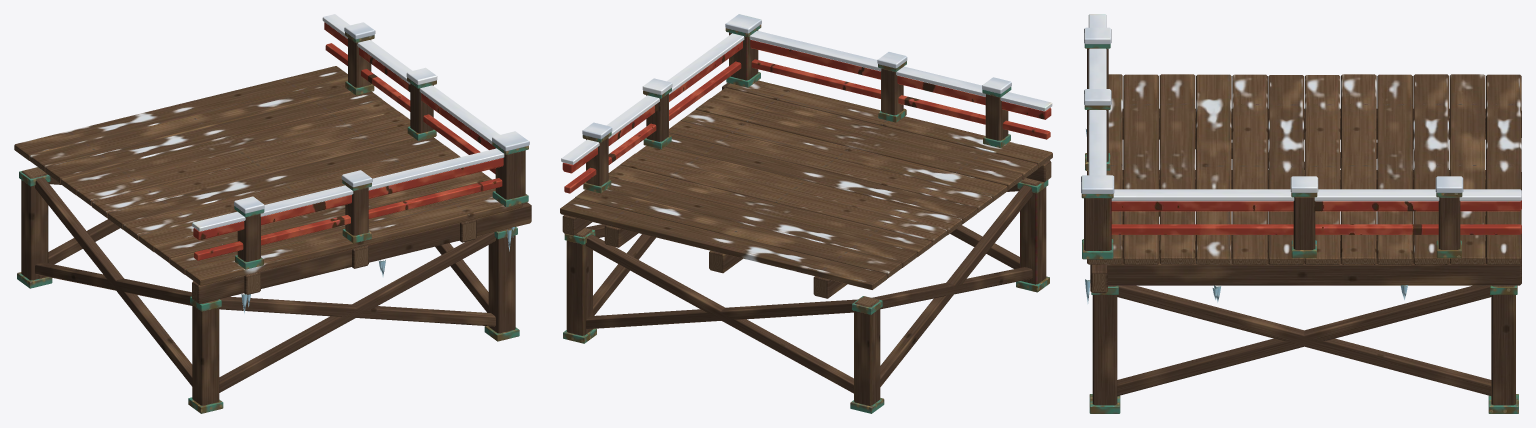
File: SM_Tripo_FrostPlankRoadCorner.glb
The picture shows the model from 3 angles, left to right: view 1: azimuth 30°, elevation 25°; view 2: azimuth 150°, elevation 25°; view 3: azimuth 270°, elevation 25°; orthographic projection. The views are drawn at different scales.
Visible parts, largest first — view 1: SM_Tripo_FrostPlankRoadCorner_LOD0; view 2: SM_Tripo_FrostPlankRoadCorner_LOD0; view 3: SM_Tripo_FrostPlankRoadCorner_LOD0.
Part boxes in pixels (left/top/right/bottom): SM_Tripo_FrostPlankRoadCorner_LOD0: left=14, top=14, right=531, bottom=413; SM_Tripo_FrostPlankRoadCorner_LOD0: left=560, top=14, right=1052, bottom=413; SM_Tripo_FrostPlankRoadCorner_LOD0: left=1081, top=14, right=1521, bottom=413.
Bounding box in the file's own units: 6.2 × 3.49 × 6.08.
1 material, 1 textured.
